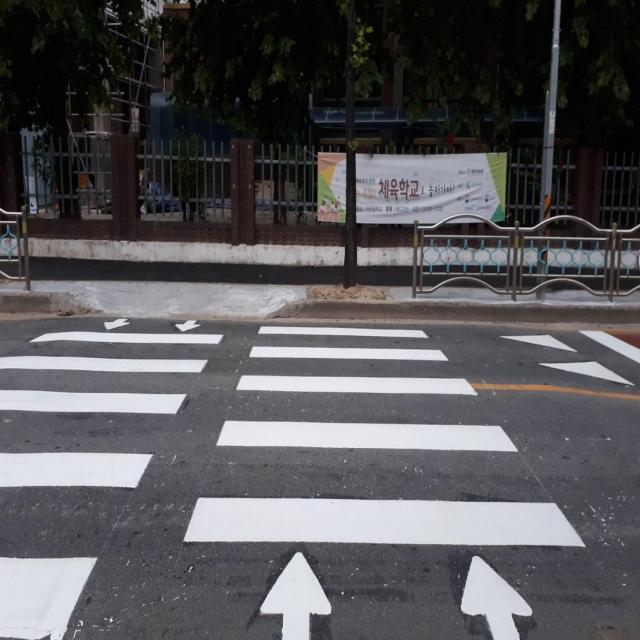횡단보도: (0, 315, 588, 639)
